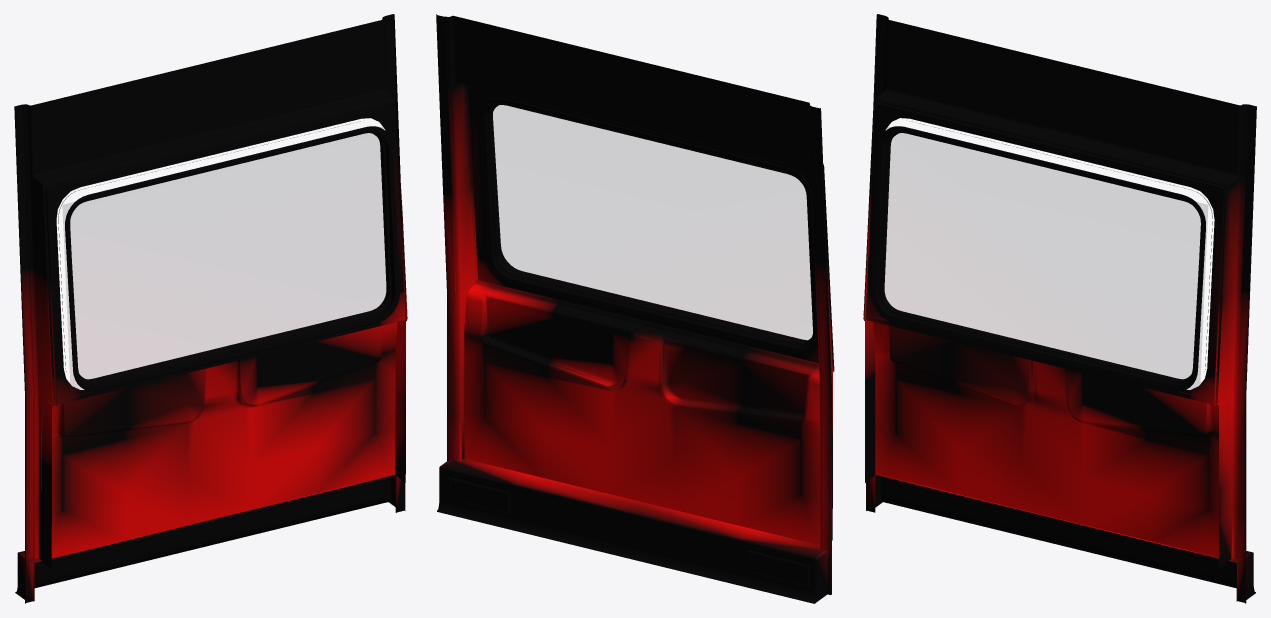
File: SM_int_wall_window_200_02.fbx
3 views of the same model, side by side, from view 1: azimuth 30°, elevation 25°; view 2: azimuth 150°, elevation 25°; view 3: azimuth 330°, elevation 25° (orthographic).
Parts seen in each view (by area): view 1: SM_int_wall_window_200_02; view 2: SM_int_wall_window_200_02; view 3: SM_int_wall_window_200_02.
Boxes of the visible parts, <box> form: SM_int_wall_window_200_02: <box>14,14,407,603</box>; SM_int_wall_window_200_02: <box>436,14,834,603</box>; SM_int_wall_window_200_02: <box>863,14,1256,603</box>.
Size of the model in its own units: 204 by 34.12 by 251.
